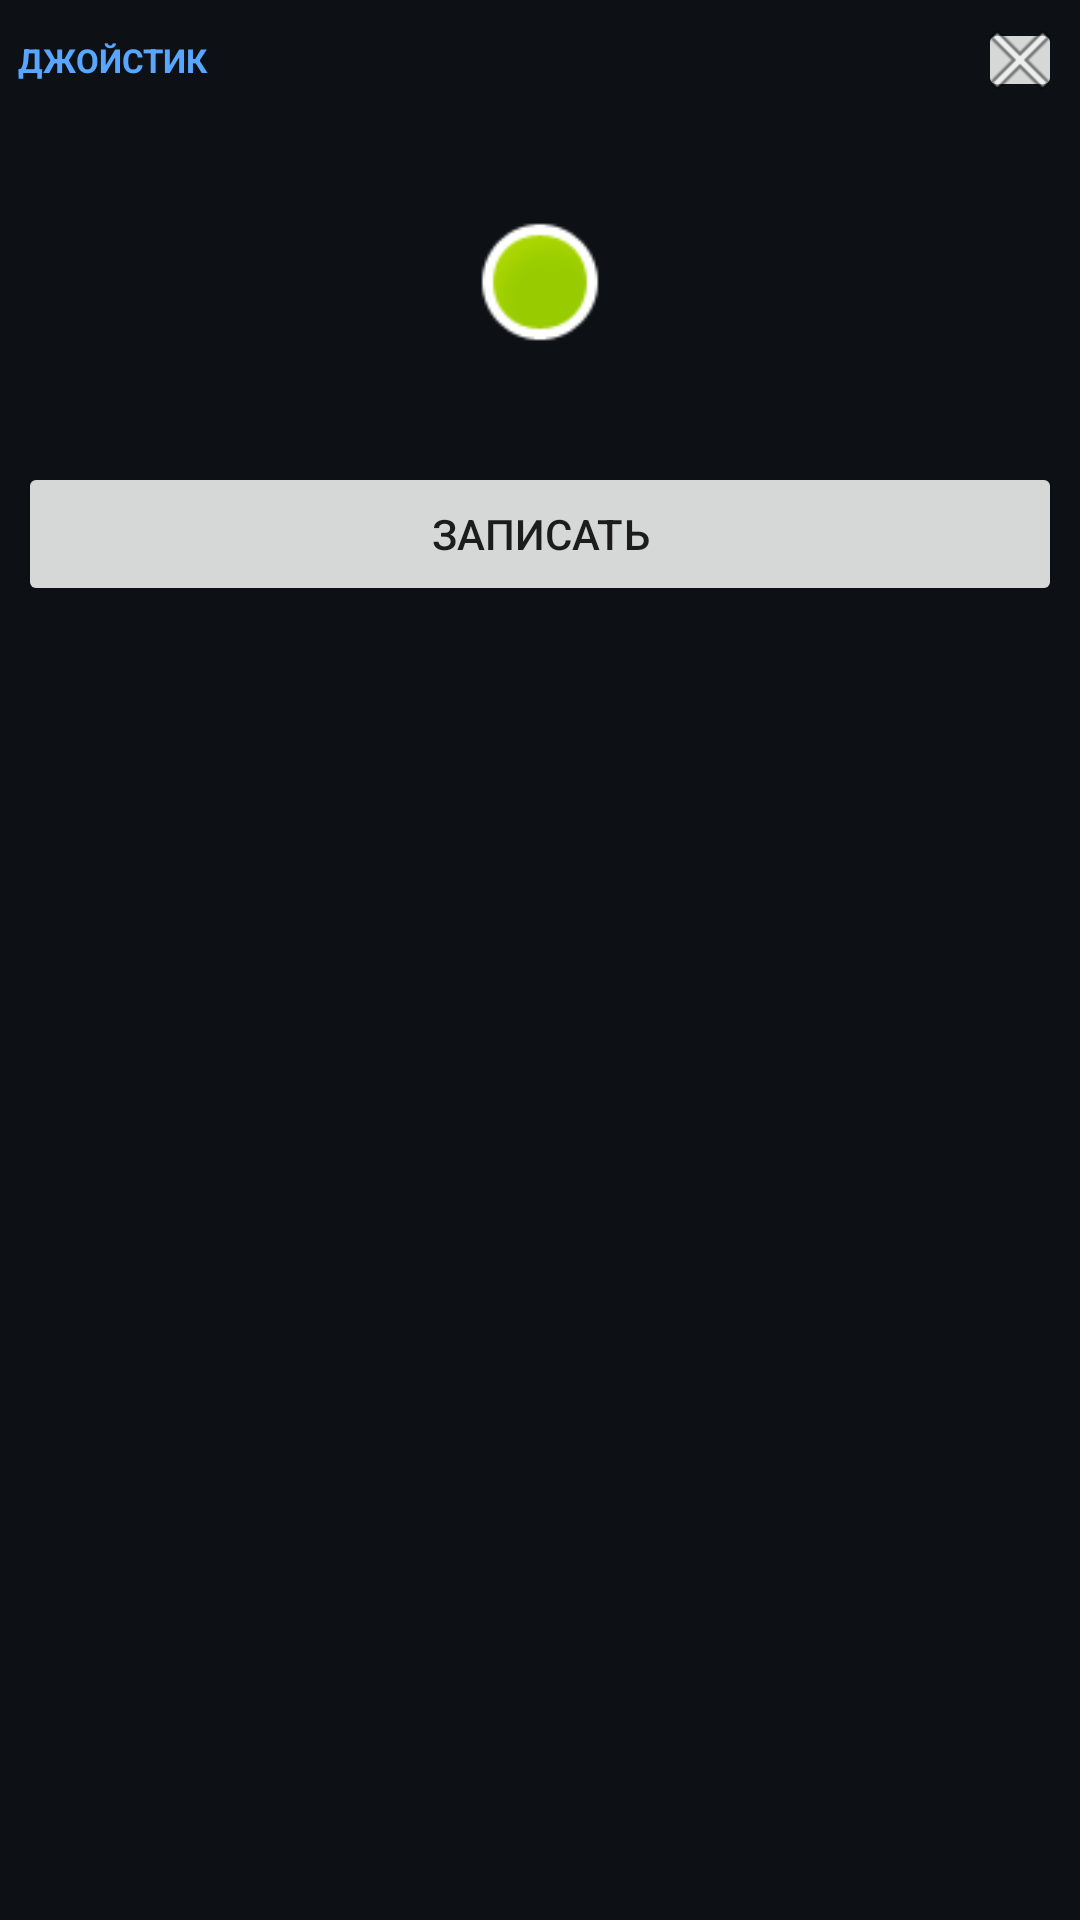

Point at icon controls on the screen. Image size 1080*1920, points as [x,y].
close clear cancel: [1020,60]
presence online: [540,282]
